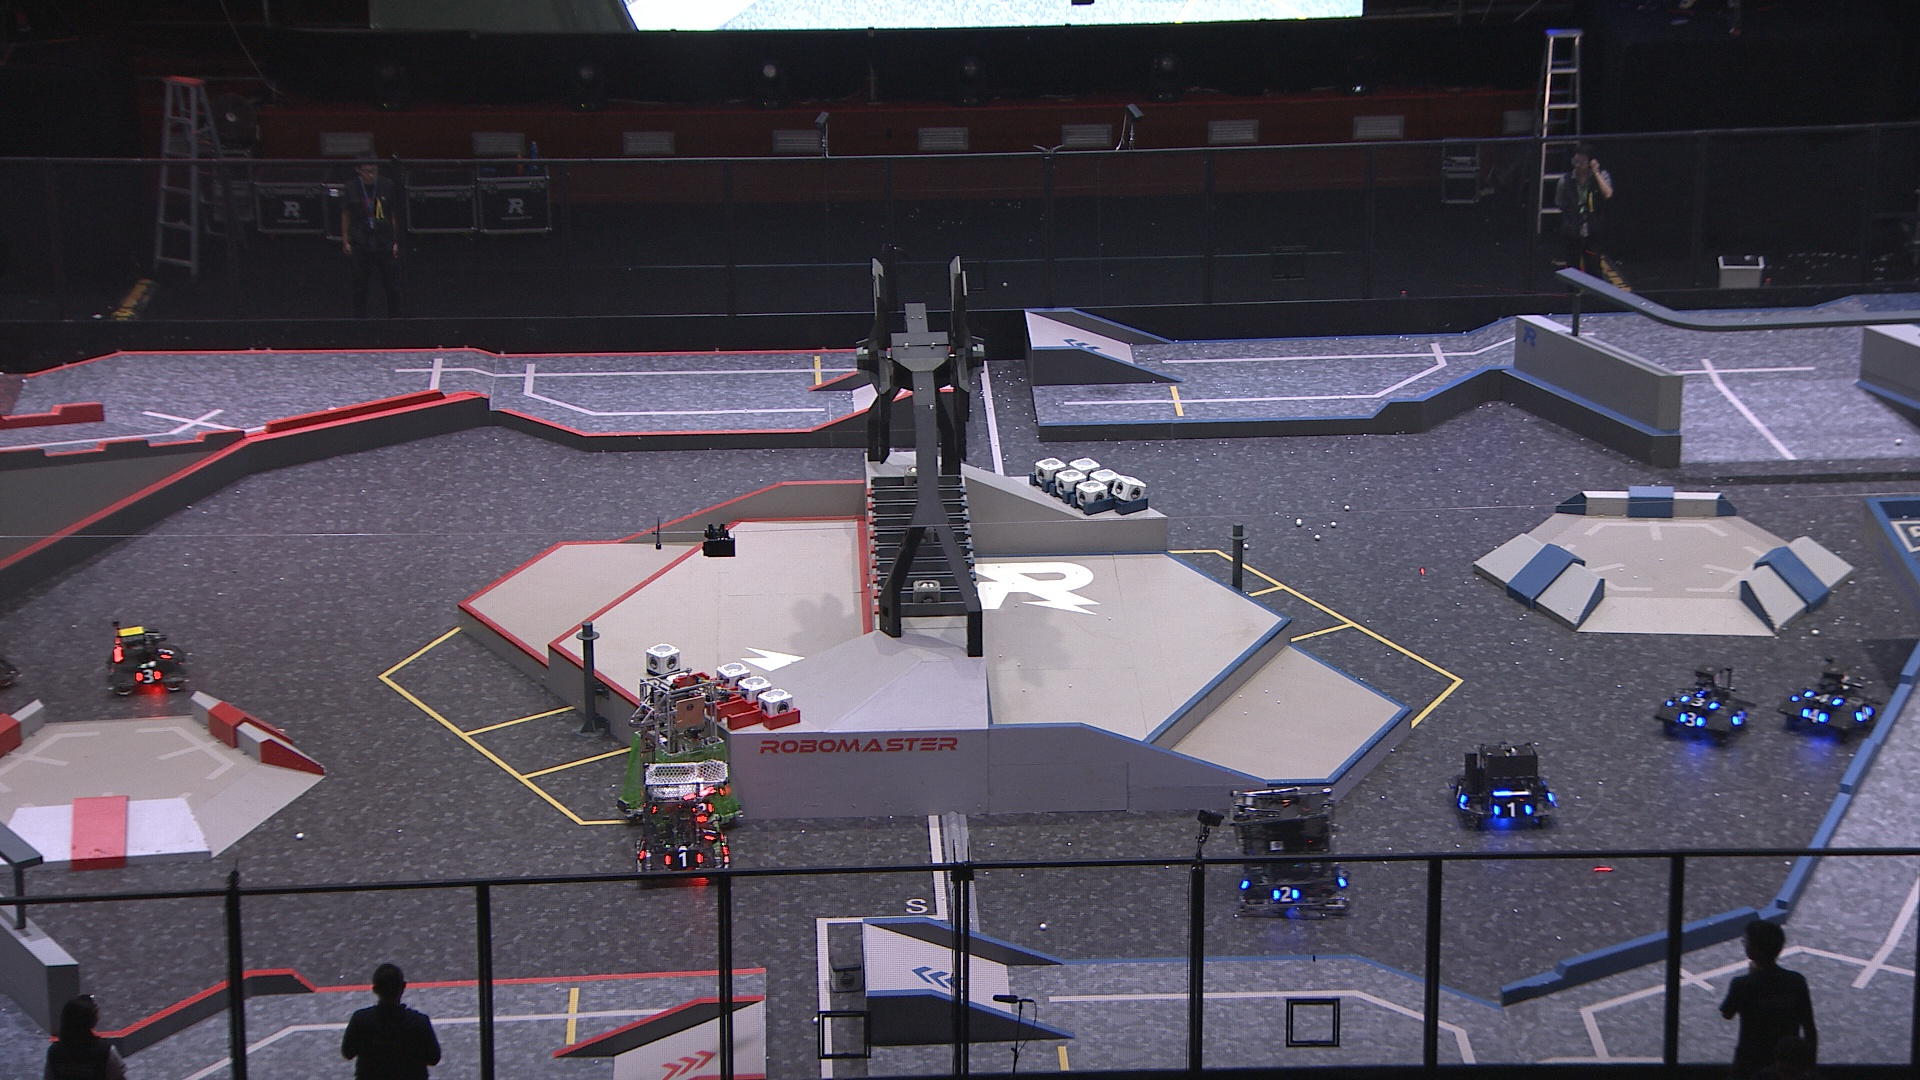armor: (1677, 694, 1720, 713), (1491, 802, 1534, 820), (1804, 690, 1845, 708), (665, 849, 704, 868), (1677, 712, 1709, 728), (1801, 708, 1828, 727), (1271, 887, 1302, 903), (135, 669, 164, 684), (1452, 785, 1470, 806), (157, 644, 177, 662), (1730, 708, 1749, 727), (1855, 704, 1874, 723), (698, 802, 717, 816), (636, 839, 647, 861)
car: (617, 669, 746, 832), (1230, 779, 1353, 922), (636, 760, 735, 889), (1449, 741, 1557, 832), (1647, 666, 1751, 742), (1778, 661, 1878, 738), (102, 622, 189, 698)
